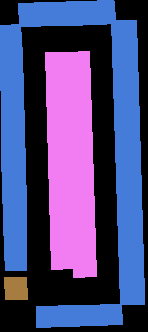parkingspot: (111, 20, 144, 304), (66, 51, 96, 277), (0, 24, 26, 270), (45, 52, 74, 269), (18, 0, 115, 26), (36, 304, 122, 327), (4, 277, 27, 299)
